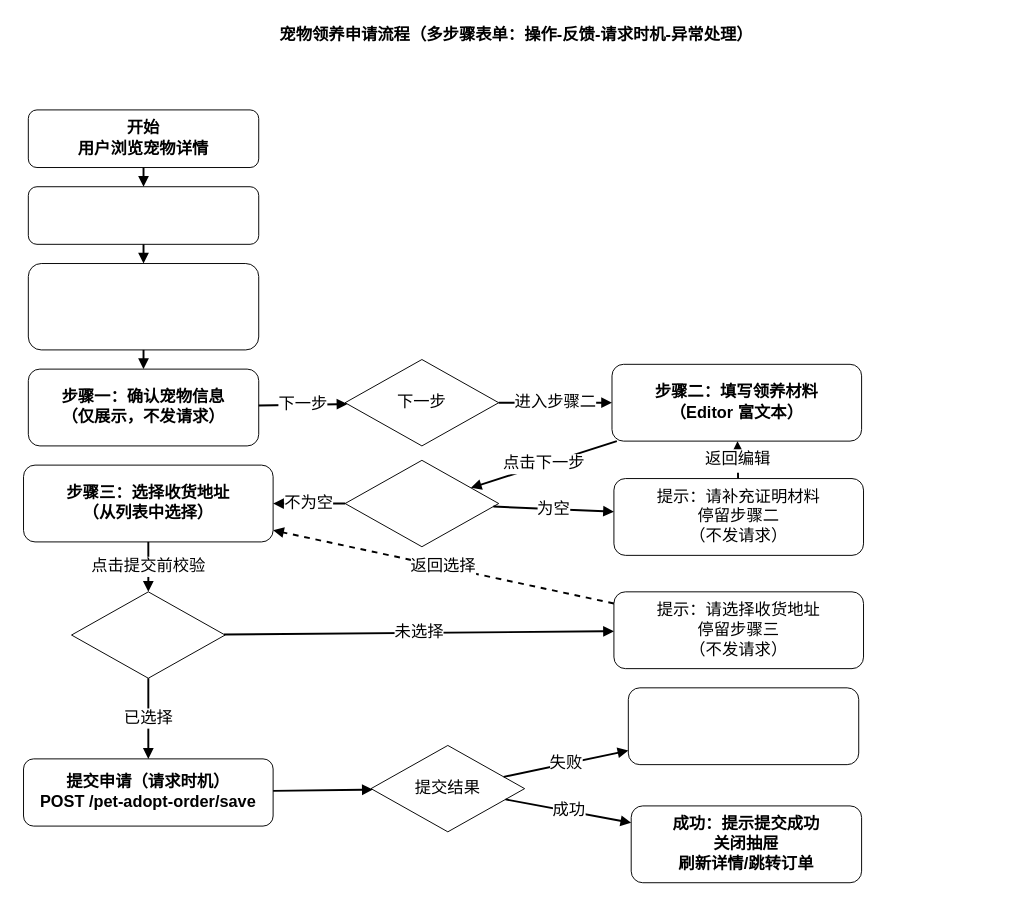
Image size: 1031x900. Some labels were removed from this diagram. Here are the shapes that lost their labels. From the top down, the centre of each, then its label:
At (x=143, y=215): "点击“申请领养”".
At (x=143, y=306): "界面反馈：打开抽屉 初始化 step=1 请求地址列表（GET）".
At (x=421, y=503): "材料是否为空？".
At (x=148, y=634): "是否已选择地址？".
At (x=743, y=726): "失败：提示错误 保持抽屉打开 允许重试".
